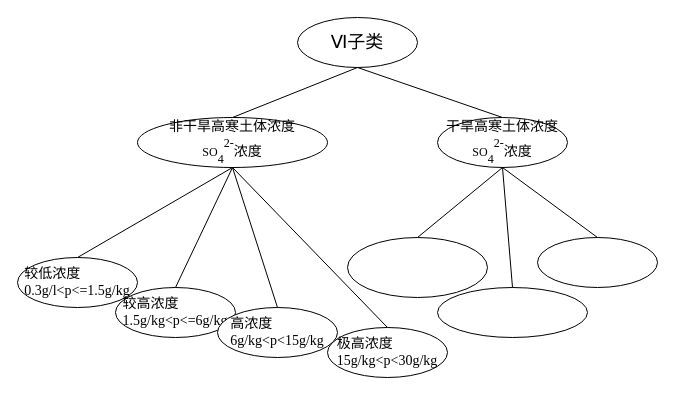
The diagram is 675 pixels wide and 395 high, and some of its shapes have lost their labels. Here are the shapes that lost their labels. From the top down, the box of each, then its label:
(346, 236, 488, 298): 较低浓度 0.3g/kg<p<=0.75g/kg
(536, 236, 658, 288): 较高浓度 3g/kg<p<7.5g/kg
(436, 286, 588, 338): 较高浓度 0.75g/kg<p<=3g/kg
